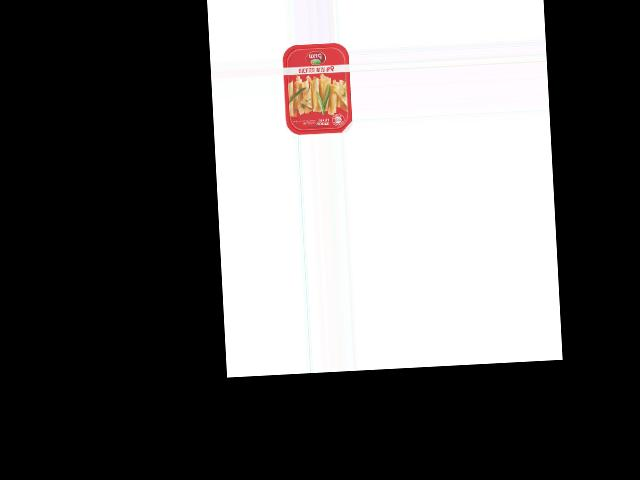cheese: (281, 42, 352, 135)
